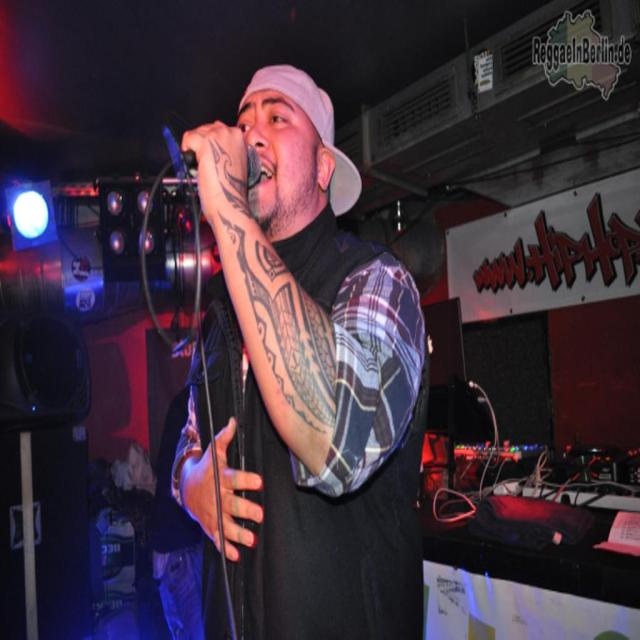Face: (239, 94, 320, 219)
